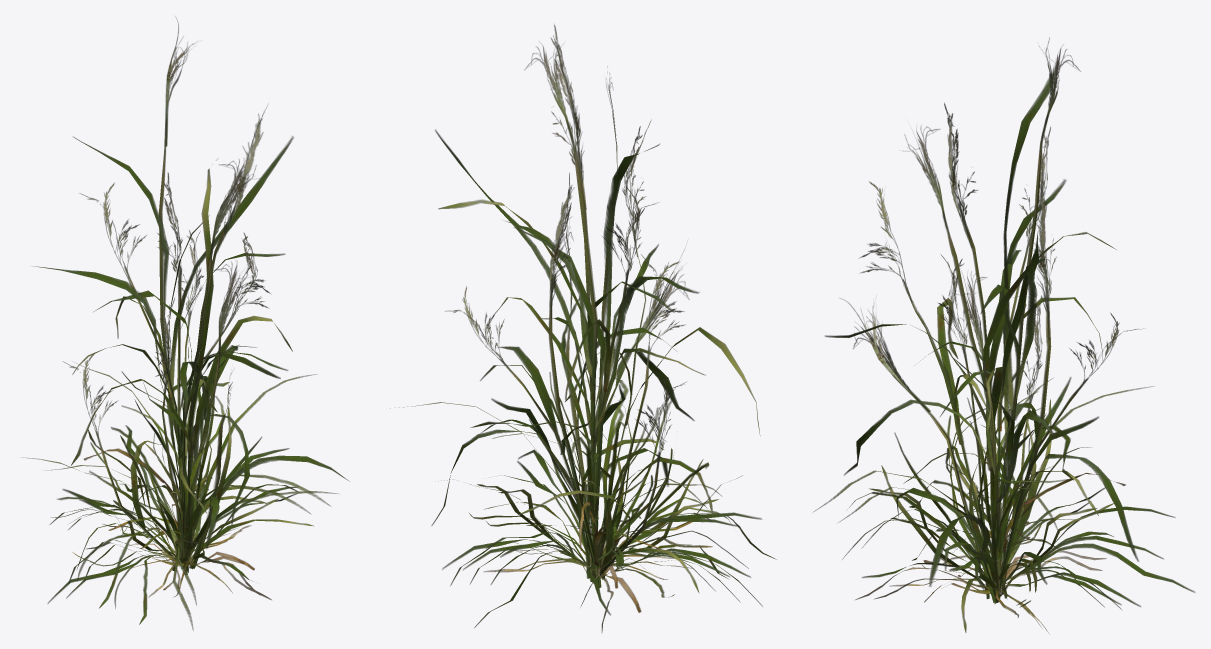
The model's file is grass.glb.
The picture shows the model from 3 angles, left to right: view 1: azimuth 30°, elevation 25°; view 2: azimuth 150°, elevation 25°; view 3: azimuth 270°, elevation 25°; orthographic projection. The views are drawn at different scales.
Parts seen in each view (by area): view 1: grass_medium_01_small_a_LOD0, grass_medium_01_tall_b_LOD0, grass_medium_01_tall_a_LOD0, grass_medium_01_tall_c_LOD0, grass_medium_01_small_b_LOD0, grass_medium_01_tiny_a_LOD0; view 2: grass_medium_01_tall_a_LOD0, grass_medium_01_small_a_LOD0, grass_medium_01_tall_b_LOD0, grass_medium_01_tall_c_LOD0, grass_medium_01_small_b_LOD0, grass_medium_01_tiny_a_LOD0; view 3: grass_medium_01_tall_a_LOD0, grass_medium_01_small_a_LOD0, grass_medium_01_tall_c_LOD0, grass_medium_01_tall_b_LOD0, grass_medium_01_small_b_LOD0, grass_medium_01_tiny_a_LOD0.
Part boxes in pixels (box(x1,y1,x2,y2)): grass_medium_01_small_a_LOD0: box(46, 344, 337, 630); grass_medium_01_tall_b_LOD0: box(71, 105, 292, 567); grass_medium_01_tall_a_LOD0: box(32, 18, 293, 572); grass_medium_01_tall_c_LOD0: box(63, 172, 349, 574); grass_medium_01_small_b_LOD0: box(22, 396, 330, 624); grass_medium_01_tiny_a_LOD0: box(145, 347, 261, 566); grass_medium_01_tall_a_LOD0: box(431, 35, 699, 582); grass_medium_01_small_a_LOD0: box(390, 298, 776, 615); grass_medium_01_tall_b_LOD0: box(438, 24, 760, 568); grass_medium_01_tall_c_LOD0: box(480, 173, 712, 592); grass_medium_01_small_b_LOD0: box(442, 378, 762, 632); grass_medium_01_tiny_a_LOD0: box(491, 398, 642, 565); grass_medium_01_tall_a_LOD0: box(825, 37, 1143, 604); grass_medium_01_small_a_LOD0: box(838, 357, 1163, 627); grass_medium_01_tall_c_LOD0: box(840, 170, 1098, 602); grass_medium_01_tall_b_LOD0: box(844, 103, 1116, 580); grass_medium_01_small_b_LOD0: box(814, 378, 1194, 632); grass_medium_01_tiny_a_LOD0: box(951, 416, 1098, 578).
Bounding box in the file's own units: 0.1971 × 0.3246 × 0.1899.
1 material, 1 textured.
